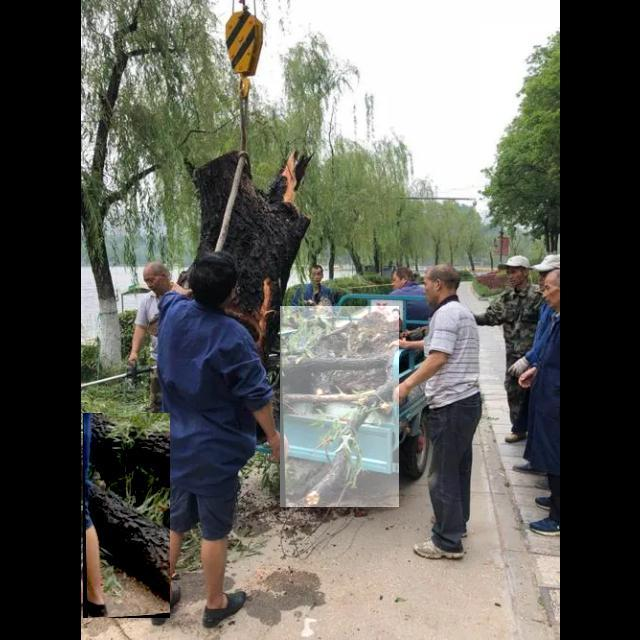fallen_tree: (280, 306, 400, 508), (83, 413, 171, 619)
